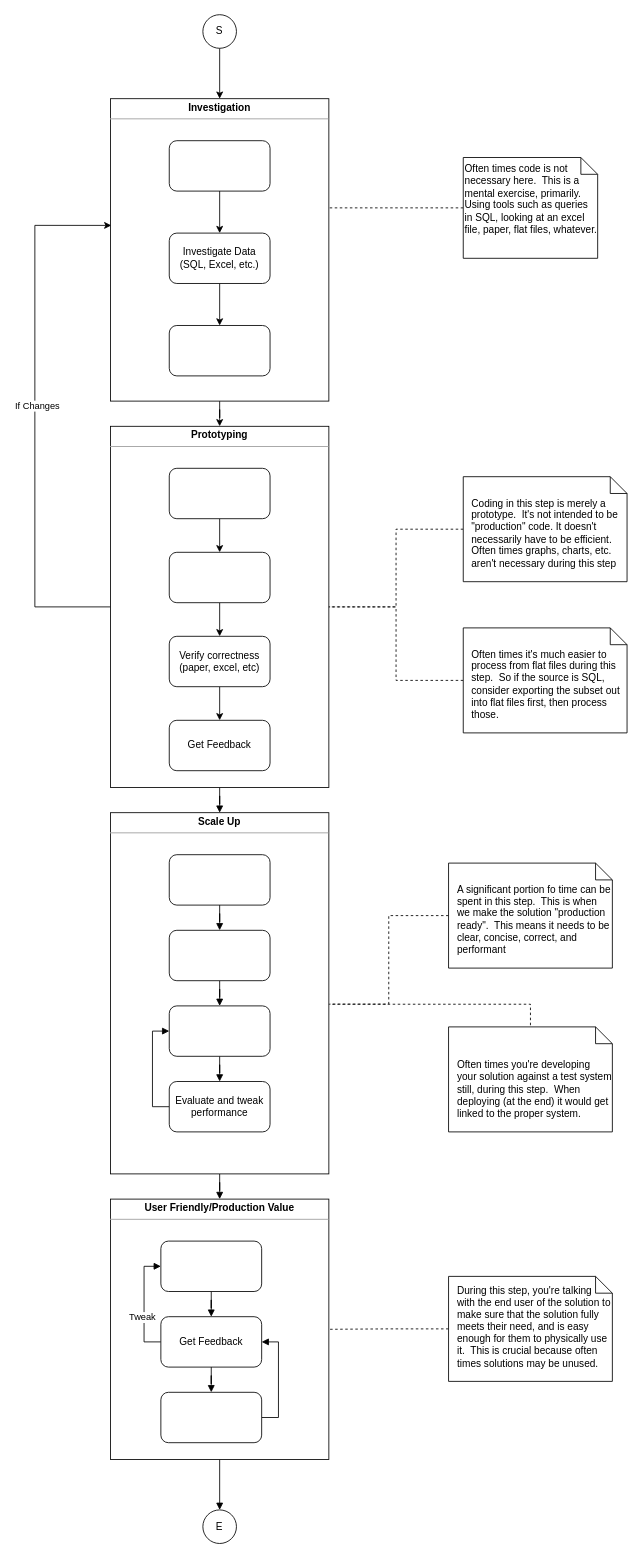
Image size: 642x1558. Some labels were removed from this diagram. Here are the shapes that lost their labels. From the top down, the centre of each, then its label:
the point at 219,165: Define Problem, objective, and potential needs
the point at 219,350: Gain rudimentary understainding of data
the point at 219,493: Pull a subsample of the data (think test set)
the point at 219,577: Develop the solution surrounding the test data
the point at 219,879: Link the solution to the source
the point at 219,955: Process full data set
the point at 219,1030: Verify Correctness
the point at 211,1266: Develop necessary reports/visualizations
the point at 211,1417: Document code/process and potential refactoring
